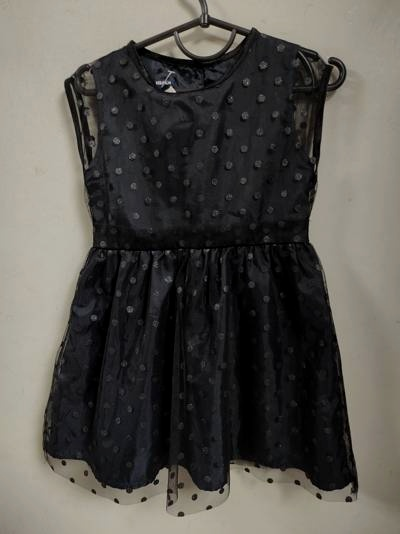Dress: (37, 22, 378, 499)
